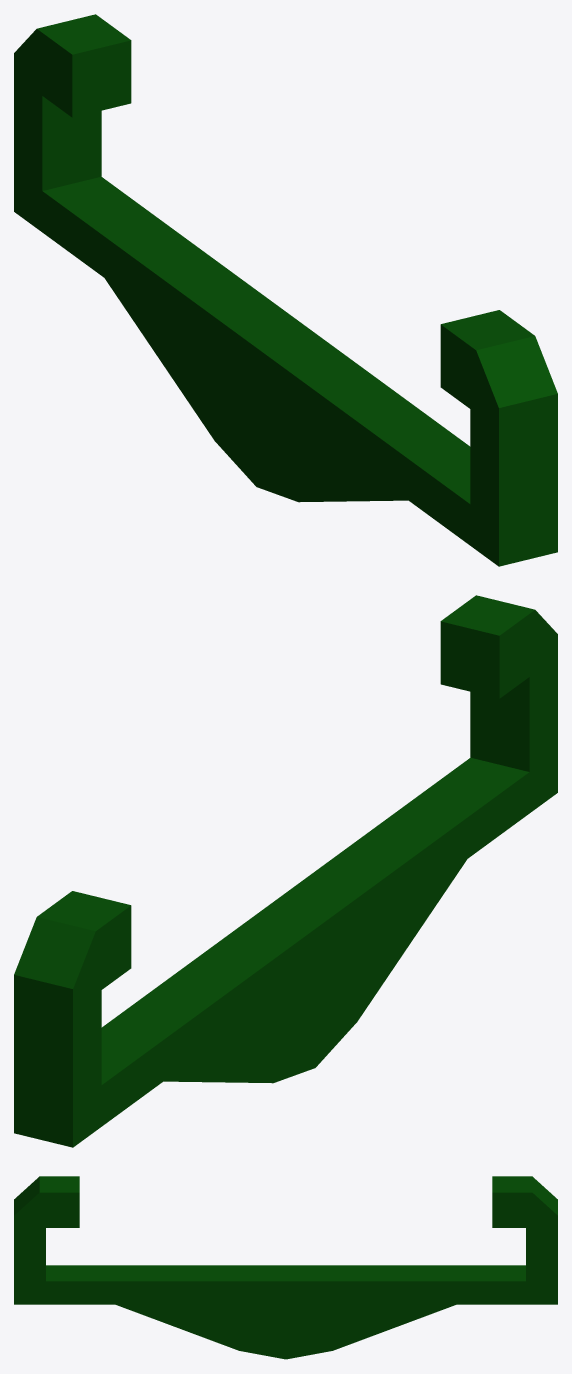
Rendered from tie.obj.
3 renders of one model, top to bottom at view 1: azimuth 30°, elevation 25°; view 2: azimuth 150°, elevation 25°; view 3: azimuth 270°, elevation 25°, orthographic. The views are drawn at different scales.
Visible parts, largest first — view 1: Tie; view 2: Tie; view 3: Tie.
Boxes of the visible parts, <box> form: Tie: <box>14,14,557,566</box>; Tie: <box>14,595,557,1147</box>; Tie: <box>14,1176,557,1359</box>.
Bounding box in the file's own units: 0.135 × 0.6497 × 1.92.
